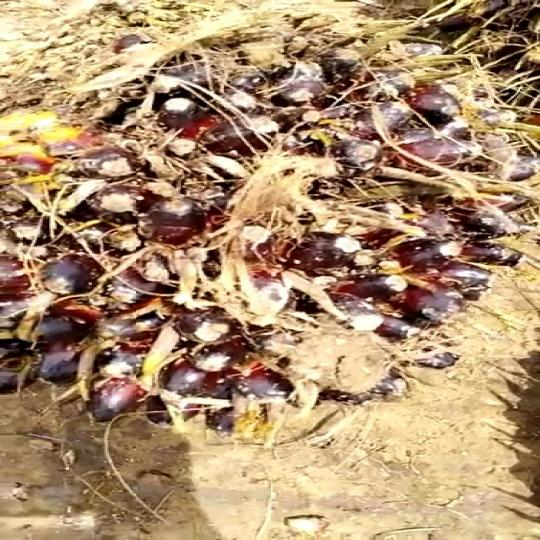mentah: (0, 16, 520, 434)
